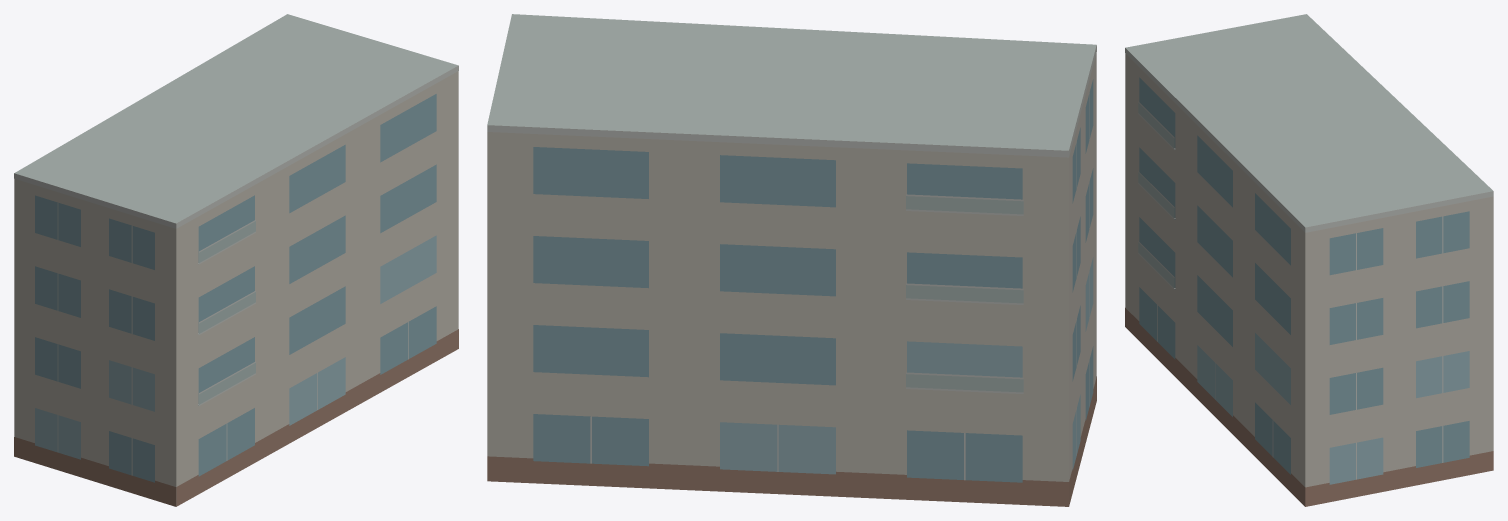
The model's file is survey-upis-32817546.glb.
The picture shows the model from 3 angles, left to right: view 1: azimuth 30°, elevation 25°; view 2: azimuth 150°, elevation 25°; view 3: azimuth 270°, elevation 25°; orthographic projection. The views are drawn at different scales.
Visible parts, largest first — view 1: survey-upis-32817546.tmp; view 2: survey-upis-32817546.tmp; view 3: survey-upis-32817546.tmp.
Boxes of the visible parts, x1,y1,x2,y2 form: survey-upis-32817546.tmp: (14,14,458,506); survey-upis-32817546.tmp: (487,14,1096,506); survey-upis-32817546.tmp: (1125,14,1493,506).
Size of the model in its own units: 20.99 by 12.8 by 15.31.
